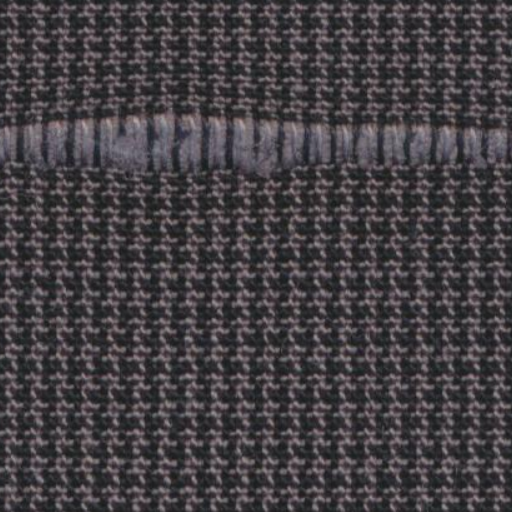DaiSha: (0, 98, 504, 180)
